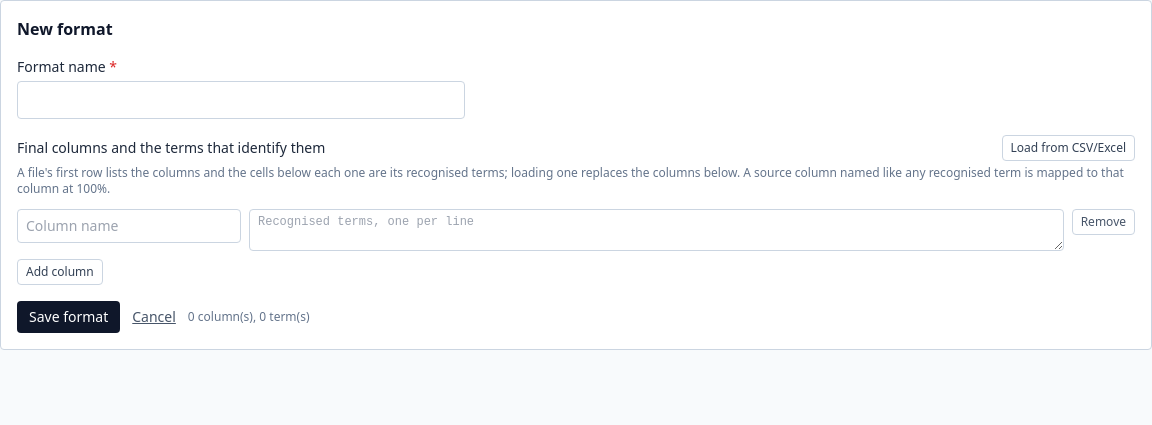
Test: FormatTemplateEditor › shows what is wrong instead of saving
This screenshot has width=1152, height=425.
Click the button "Save format" at [69, 317], box top-left (17, 301), bottom-right (120, 333)
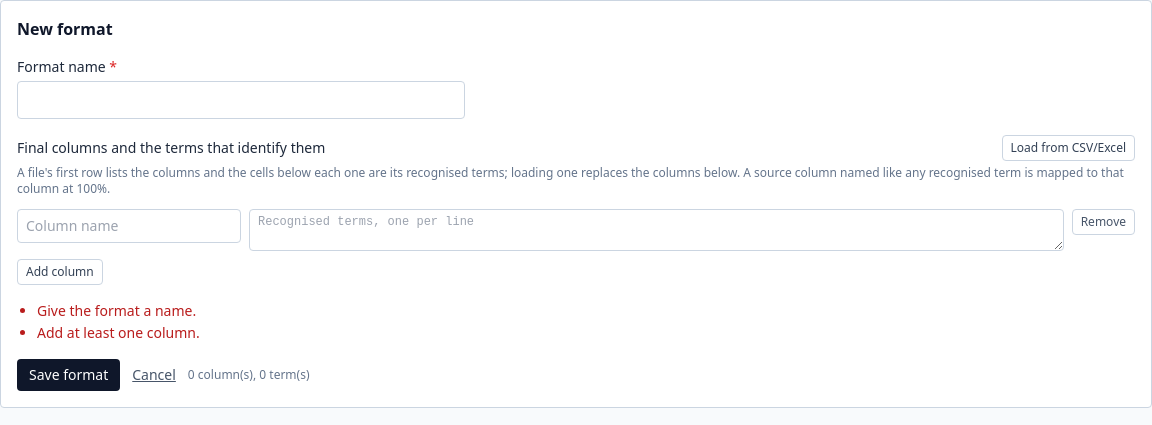
Expected: the message shows "Give the format a name.", top-left (37, 301), bottom-right (196, 320)
Expected: the message shows "Add at least one column.", top-left (37, 323), bottom-right (200, 342)
